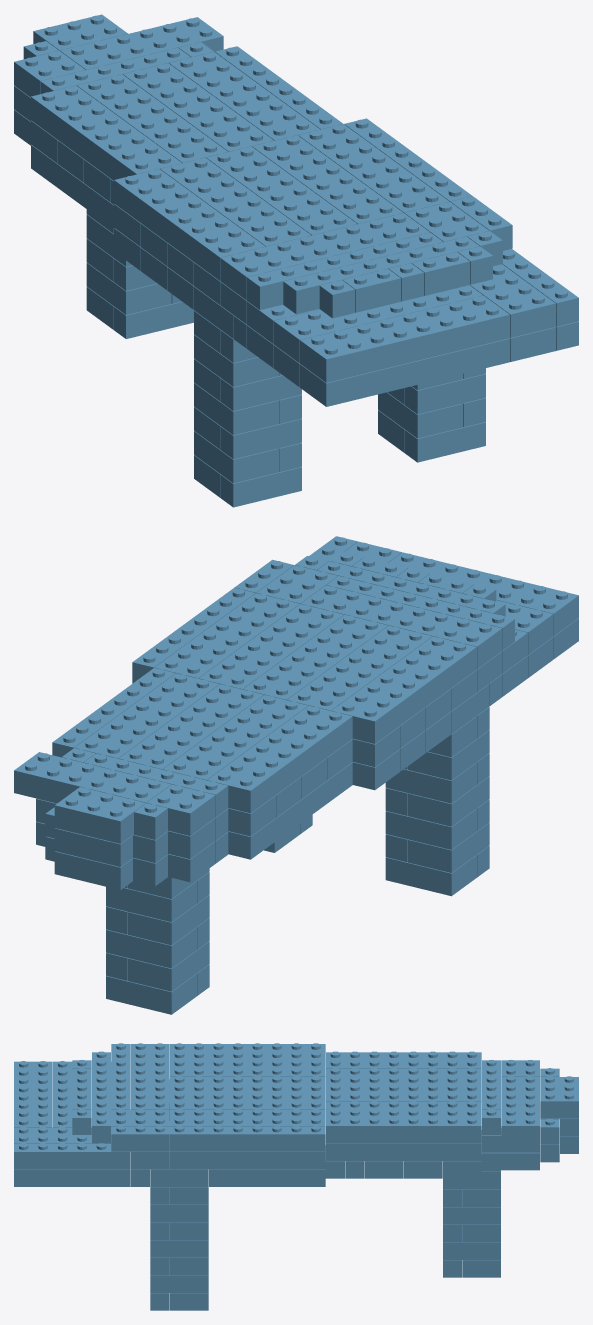
File: collab_piano-L1V1_raw.glb
3 views of the same model, one above another, from view 1: azimuth 30°, elevation 25°; view 2: azimuth 150°, elevation 25°; view 3: azimuth 270°, elevation 25° (orthographic). The views are drawn at different scales.
Bounding box in the file's own units: 10.98 × 10.13 × 28.98.
